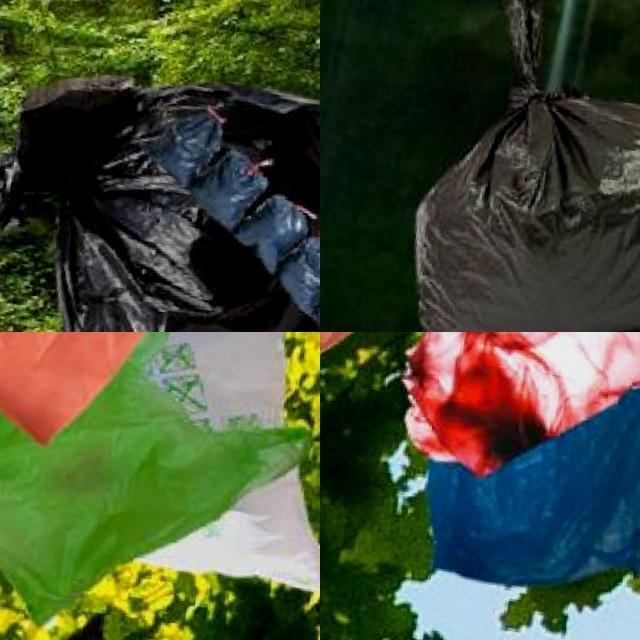waste: (0, 332, 320, 640), (0, 58, 320, 332), (388, 0, 640, 332), (396, 332, 640, 605), (97, 332, 320, 598), (0, 332, 213, 459), (148, 96, 222, 192), (196, 140, 272, 232), (241, 189, 307, 274), (274, 229, 320, 321)
